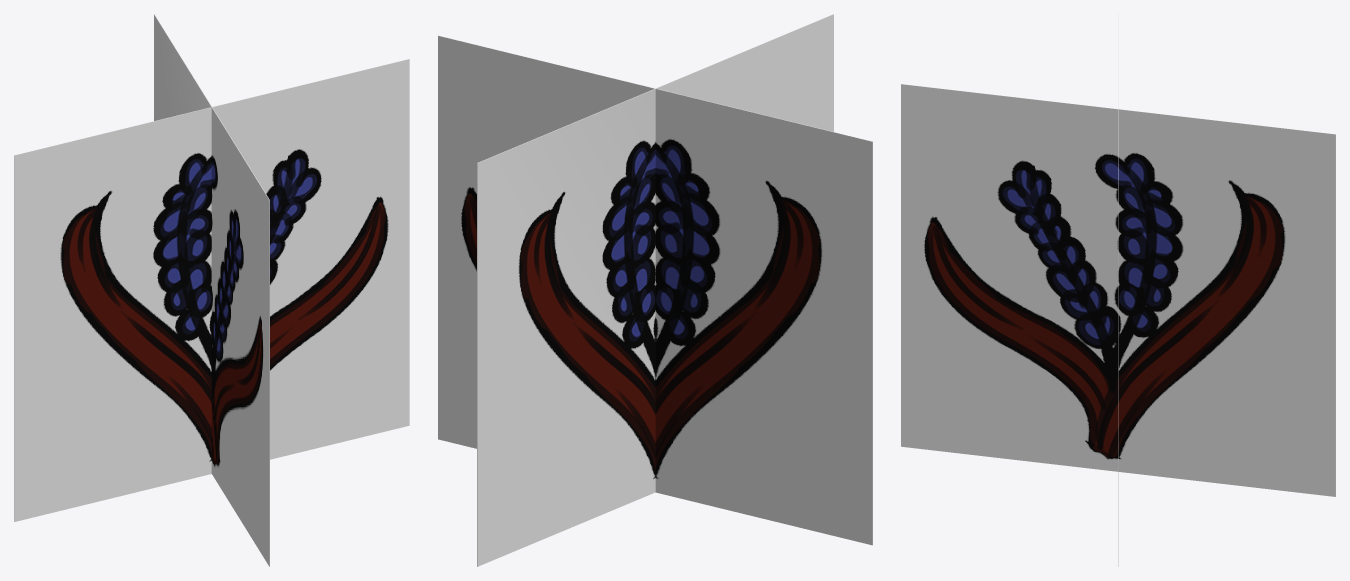
File: FruitPlantFruit.fbx
3 renders of one model, left to right at view 1: azimuth 30°, elevation 25°; view 2: azimuth 150°, elevation 25°; view 3: azimuth 270°, elevation 25°, orthographic. The views are drawn at different scales.
Parts seen in each view (by area): view 1: FruitPlantFruit; view 2: FruitPlantFruit; view 3: FruitPlantFruit.
Part boxes in pixels (x1=…): FruitPlantFruit: x1=14, y1=14, x2=409, y2=566; FruitPlantFruit: x1=438, y1=14, x2=872, y2=566; FruitPlantFruit: x1=901, y1=14, x2=1335, y2=566.
Bounding box in the file's own units: 0.8631 × 0.766 × 0.8327.
